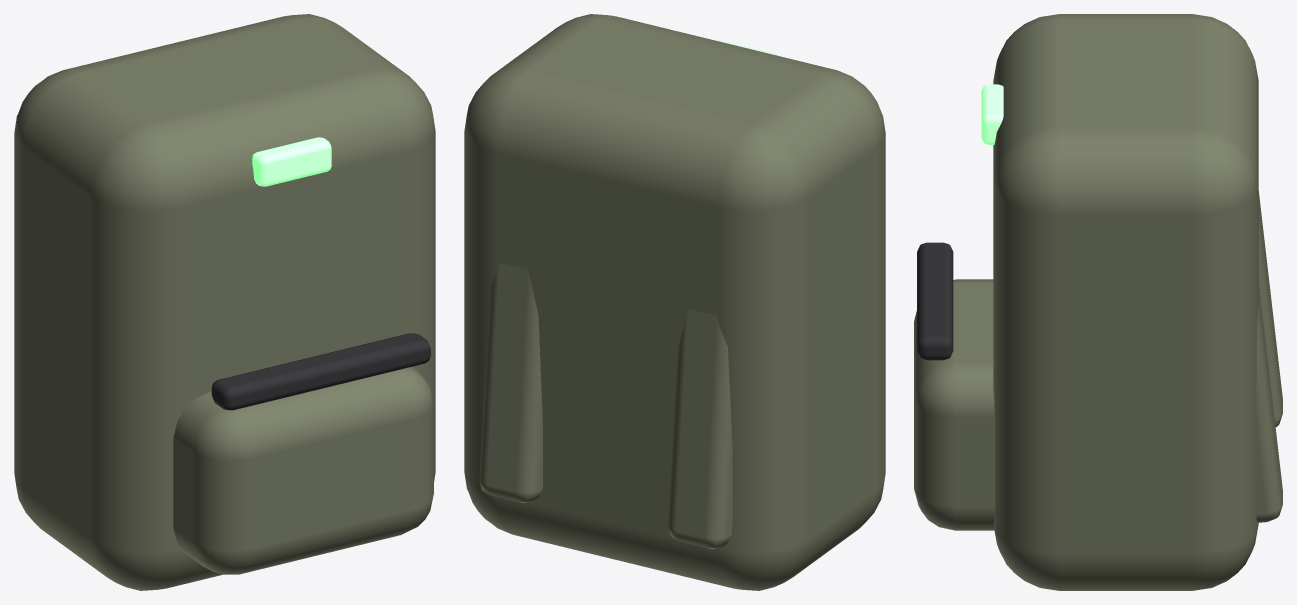
The model's file is battle-royale-town-and-airfield-backpack-small-40cb0663__28223.glb.
The picture shows the model from 3 angles, left to right: view 1: azimuth 30°, elevation 25°; view 2: azimuth 150°, elevation 25°; view 3: azimuth 270°, elevation 25°; orthographic projection.
Parts seen in each view (by area): view 1: backpack-small; view 2: backpack-small; view 3: backpack-small.
Part boxes in pixels (x1=…): backpack-small: x1=14, y1=14, x2=435, y2=590; backpack-small: x1=464, y1=14, x2=885, y2=590; backpack-small: x1=914, y1=14, x2=1282, y2=590.
Size of the model in its own units: 0.32 by 0.42 by 0.3063.
